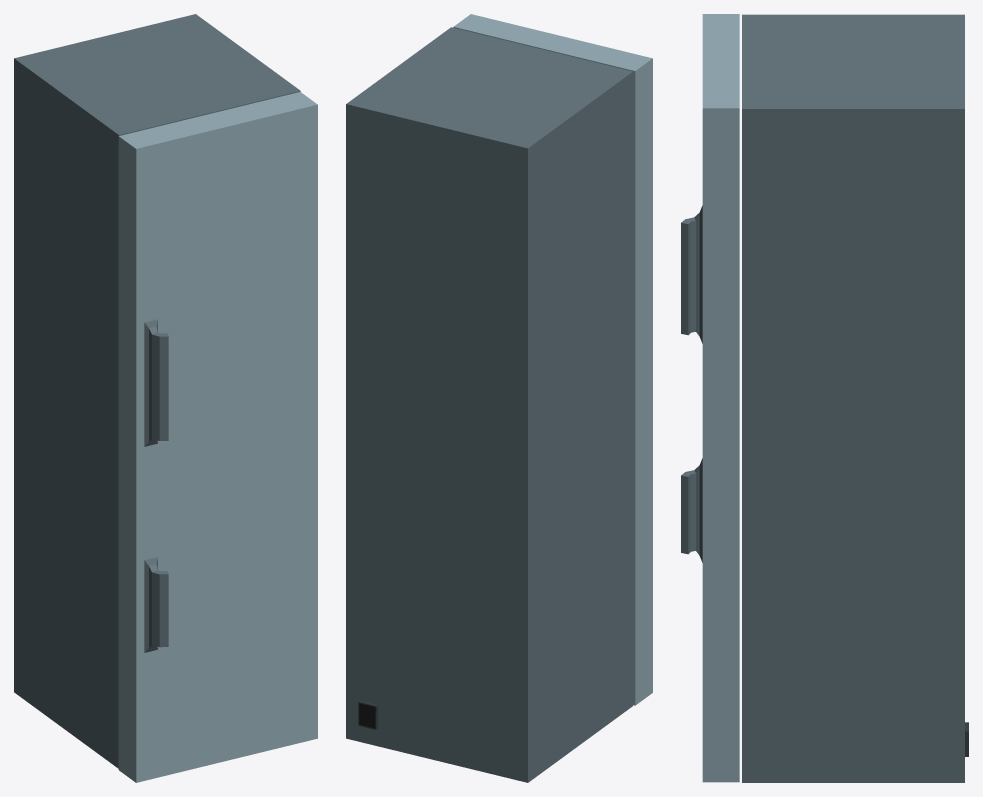
File: KA-F600_Fridge_V1.glb
3 views of the same model, side by side, from view 1: azimuth 30°, elevation 25°; view 2: azimuth 150°, elevation 25°; view 3: azimuth 270°, elevation 25° (orthographic). The views are drawn at different scales.
Visible parts, largest first — view 1: KA-F600_Fridge_V1, KA-F600_Fridge_V1_DoorInDoor, KA-F600_Fridge_V1_Door; view 2: KA-F600_Fridge_V1, KA-F600_Fridge_V1_DoorInDoor, KA-F600_Fridge_V1_Door; view 3: KA-F600_Fridge_V1, KA-F600_Fridge_V1_DoorInDoor, KA-F600_Fridge_V1_Door.
Boxes of the visible parts, box(x1,y1,x2,y2) form: KA-F600_Fridge_V1: box(14, 14, 300, 768); KA-F600_Fridge_V1_DoorInDoor: box(120, 93, 317, 529); KA-F600_Fridge_V1_Door: box(118, 92, 317, 782); KA-F600_Fridge_V1: box(346, 27, 632, 782); KA-F600_Fridge_V1_DoorInDoor: box(455, 14, 652, 450); KA-F600_Fridge_V1_Door: box(453, 25, 652, 705); KA-F600_Fridge_V1: box(742, 14, 968, 782); KA-F600_Fridge_V1_DoorInDoor: box(681, 14, 735, 512); KA-F600_Fridge_V1_Door: box(681, 14, 739, 782).
Bounding box in the file's own units: 0.6043 × 2 × 0.7744.
2 materials, 2 textured.
